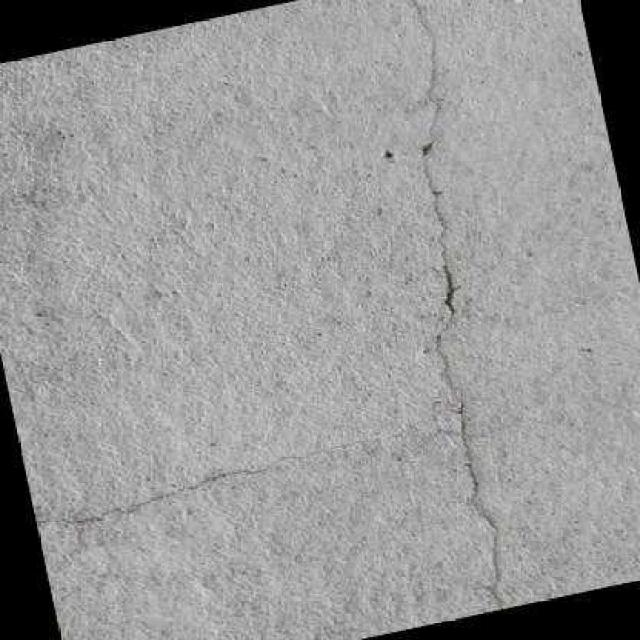D00: (407, 0, 511, 612), (34, 414, 429, 533)
